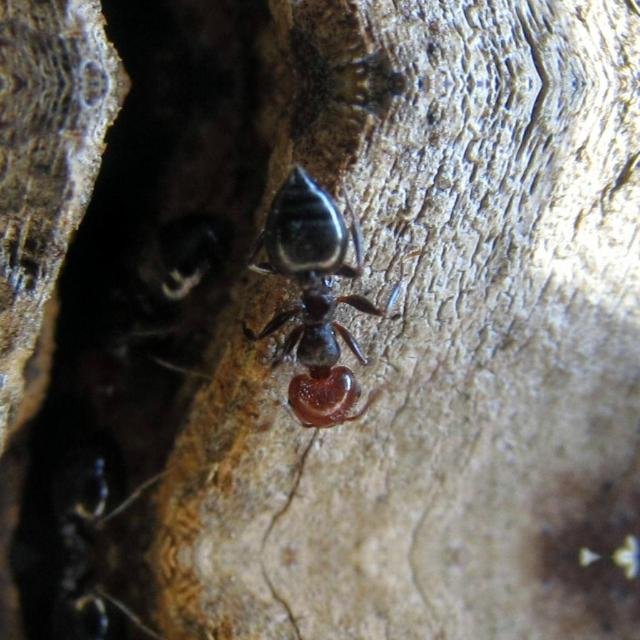Crematogaster: (230, 178, 372, 444)
